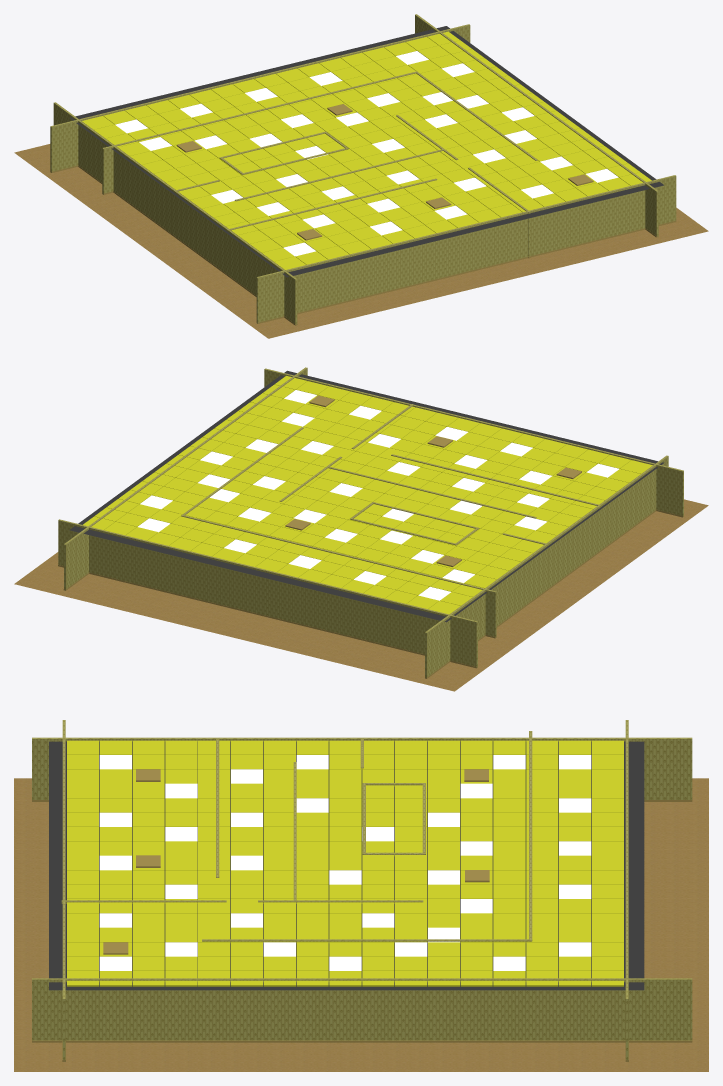
File: backrooms.glb
3 views of the same model, one above another, from view 1: azimuth 30°, elevation 25°; view 2: azimuth 150°, elevation 25°; view 3: azimuth 270°, elevation 25° (orthographic). The views are drawn at different scales.
Visible parts, largest first — view 1: Ceiling Tiles_18, wall_7, Carpet_1, wall.004_9, Ceiling Panel Frame_17, wall.013_2, wall.002_8, wall.014_10, wall.003_15, wall.001_16; view 2: Ceiling Tiles_18, Carpet_1, wall.013_2, wall.004_9, Ceiling Panel Frame_17, wall_7, wall.002_8, wall.014_10, wall.003_15, wall.001_16; view 3: Ceiling Tiles_18, Carpet_1, wall.002_8, Ceiling Panel Frame_17, wall.004_9, wall.013_2, wall_7, wall.012_11, wall.014_10, wall.003_15, wall.001_16.
Part boxes in pixels (<box>): Ceiling Tiles_18: <box>82,31,651,269</box>; wall_7: <box>256,175,676,323</box>; Carpet_1: <box>14,144,708,338</box>; wall.004_9: <box>53,102,297,325</box>; Ceiling Panel Frame_17: <box>70,26,663,277</box>; wall.013_2: <box>50,24,470,172</box>; wall.002_8: <box>415,14,658,237</box>; wall.014_10: <box>102,71,416,194</box>; wall.003_15: <box>227,178,437,274</box>; wall.001_16: <box>234,149,444,201</box>; Ceiling Tiles_18: <box>83,376,652,614</box>; Carpet_1: <box>14,499,708,691</box>; wall.013_2: <box>58,519,477,668</box>; wall.004_9: <box>425,455,668,678</box>; Ceiling Panel Frame_17: <box>69,370,664,622</box>; wall_7: <box>264,368,683,517</box>; wall.002_8: <box>63,367,307,590</box>; wall.014_10: <box>181,515,496,638</box>; wall.003_15: <box>391,454,601,550</box>; wall.001_16: <box>328,466,536,518</box>; Ceiling Tiles_18: <box>67,740,623,986</box>; Carpet_1: <box>14,778,708,1071</box>; wall.002_8: <box>32,978,692,1042</box>; Ceiling Panel Frame_17: <box>49,741,644,990</box>; wall.004_9: <box>32,737,692,801</box>; wall.013_2: <box>625,720,628,1061</box>; wall_7: <box>62,720,65,1061</box>; wall.012_11: <box>202,939,531,943</box>; wall.014_10: <box>529,731,532,940</box>; wall.003_15: <box>216,738,219,877</box>; wall.001_16: <box>293,762,296,900</box>.
Size of the model in its own units: 33.33 by 3.45 by 33.33.
6 materials, 2 textured.
